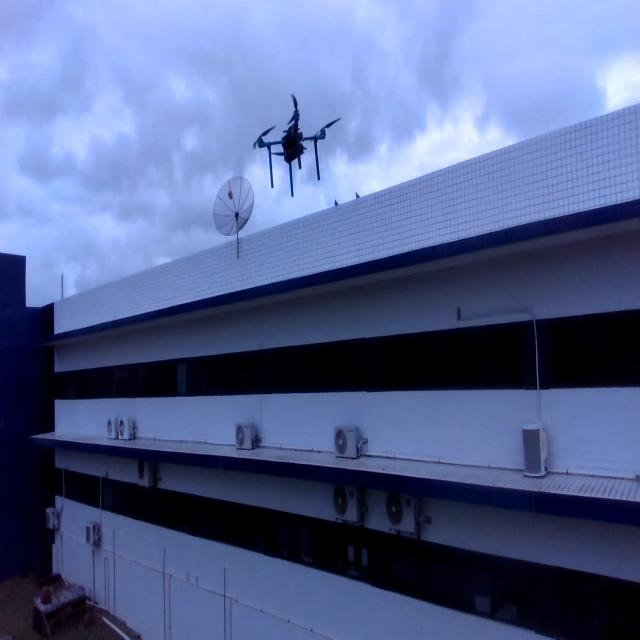-uav-: (245, 84, 345, 210)
